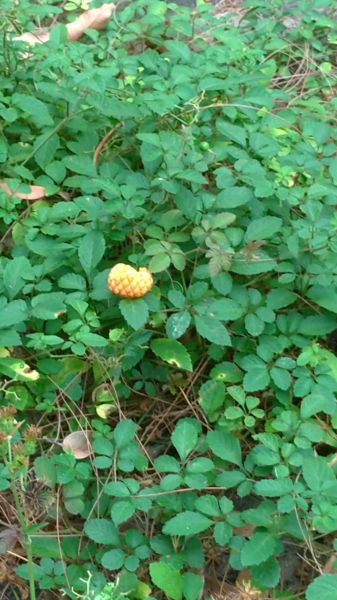eggs: (101, 260, 160, 301)
